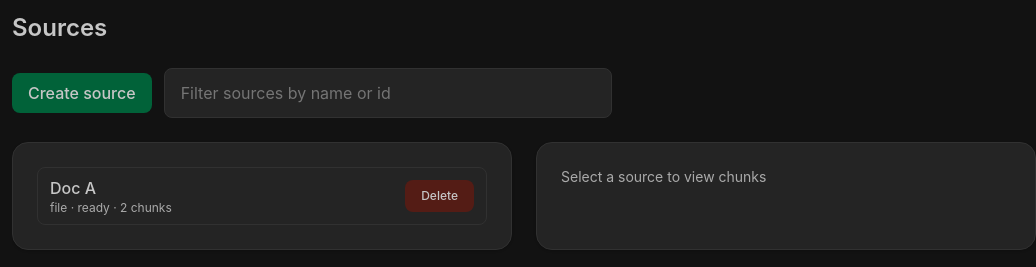
SourcesPage › filters sources by search query
Check: the text "Doc A" is shown, box left=50, top=178, right=96, bottom=198
Type "nonexistent" into the field with placeholder "Filter sources by name or id" at (388, 93), box left=164, top=68, right=612, bottom=118
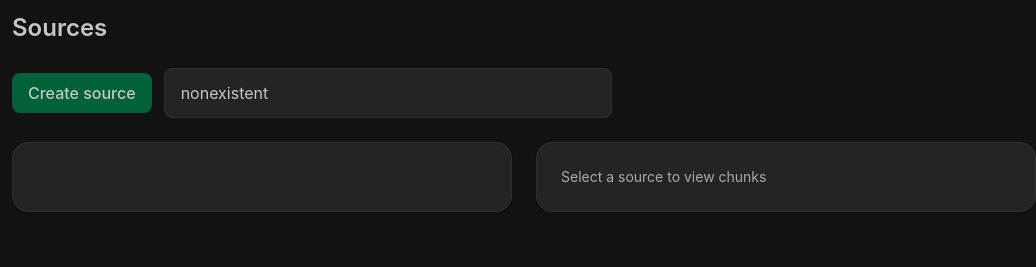
Check: the button "Doc A" is gone
